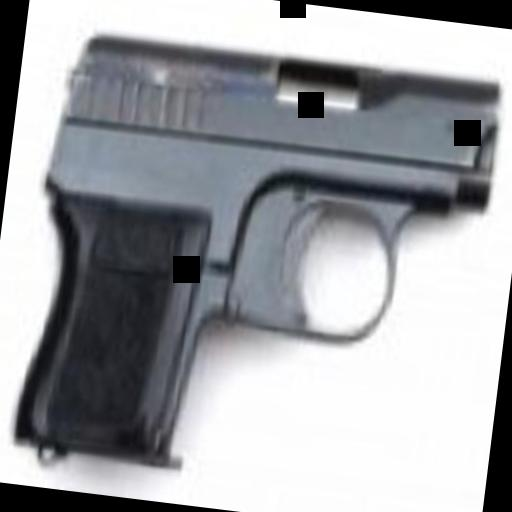Handgun: (14, 16, 500, 506)
